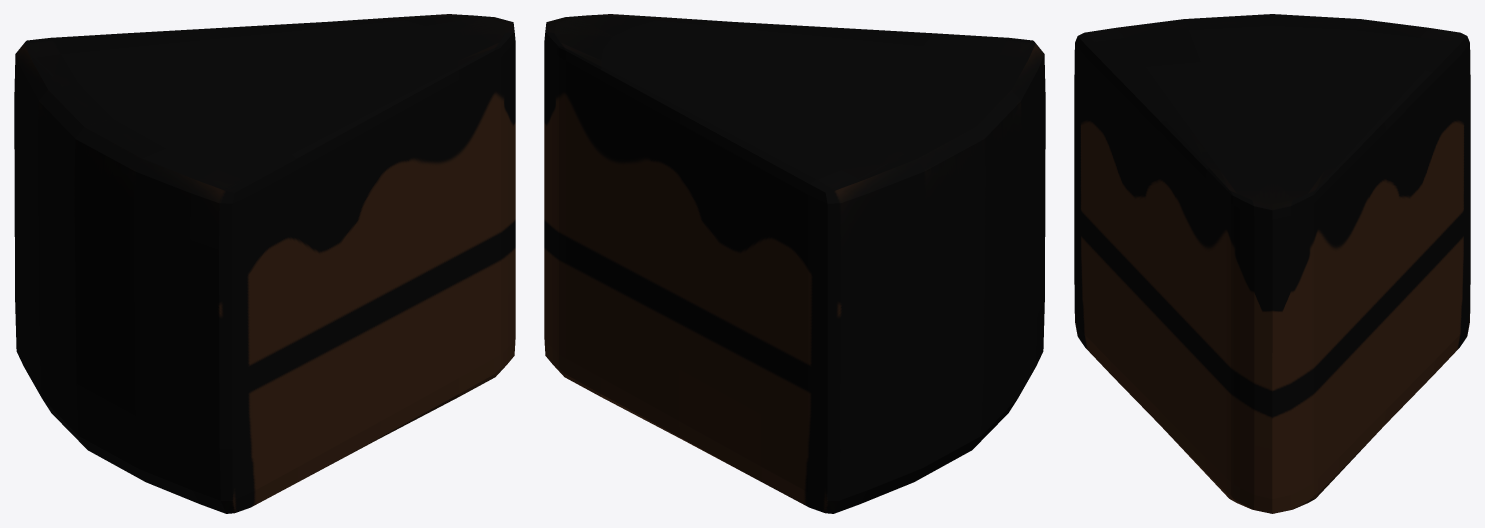
The model's file is Cake.fbx.
3 renders of one model, left to right at view 1: azimuth 30°, elevation 25°; view 2: azimuth 150°, elevation 25°; view 3: azimuth 270°, elevation 25°, orthographic. The views are drawn at different scales.
Visible parts, largest first — view 1: Cake; view 2: Cake; view 3: Cake.
Boxes of the visible parts, left/top/right/bottom form: Cake: left=14, top=14, right=515, bottom=513; Cake: left=544, top=14, right=1045, bottom=513; Cake: left=1074, top=14, right=1470, bottom=513.
Size of the model in its own units: 232 by 167 by 193.
